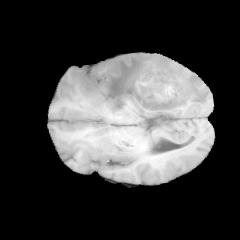glioma: (105, 53, 208, 114)
